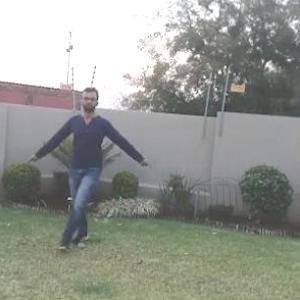land: (26, 90, 141, 247)
